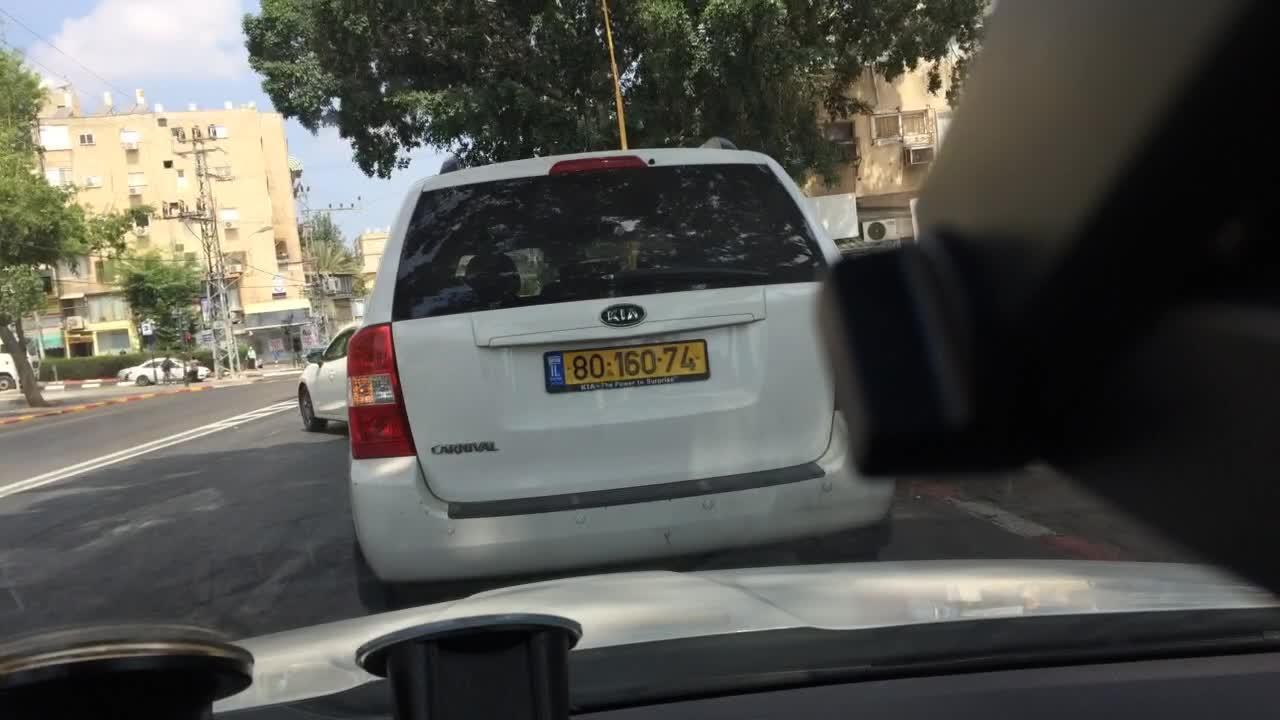kia: (594, 296, 662, 331)
